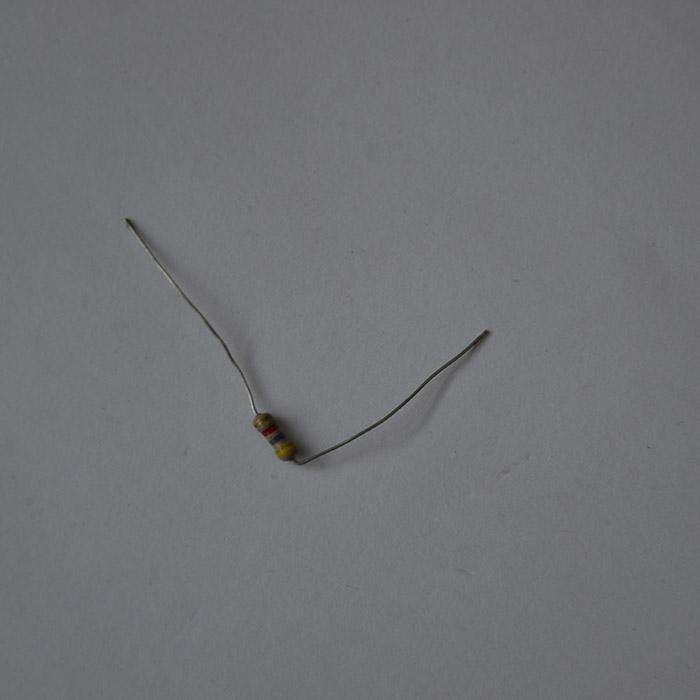resistor: (251, 410, 295, 461)
